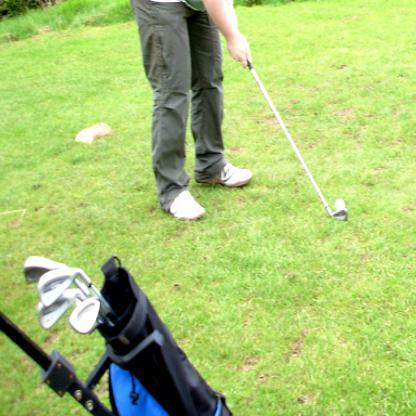GolfBall: (323, 205, 350, 221)
